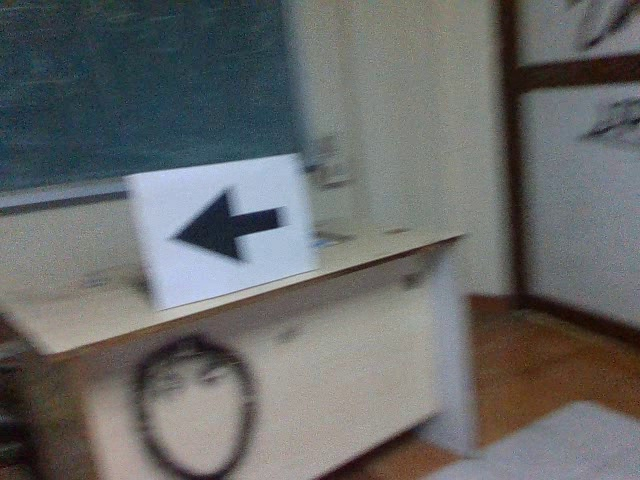Left: (163, 184, 289, 265)
